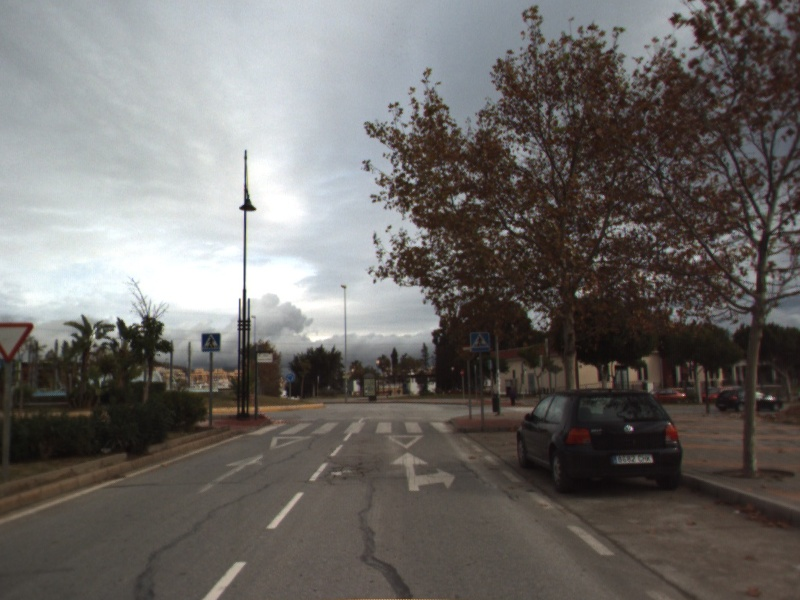STRAIGHT: (194, 451, 266, 496)
STRAIGHT_RIGHT: (388, 450, 457, 493)
